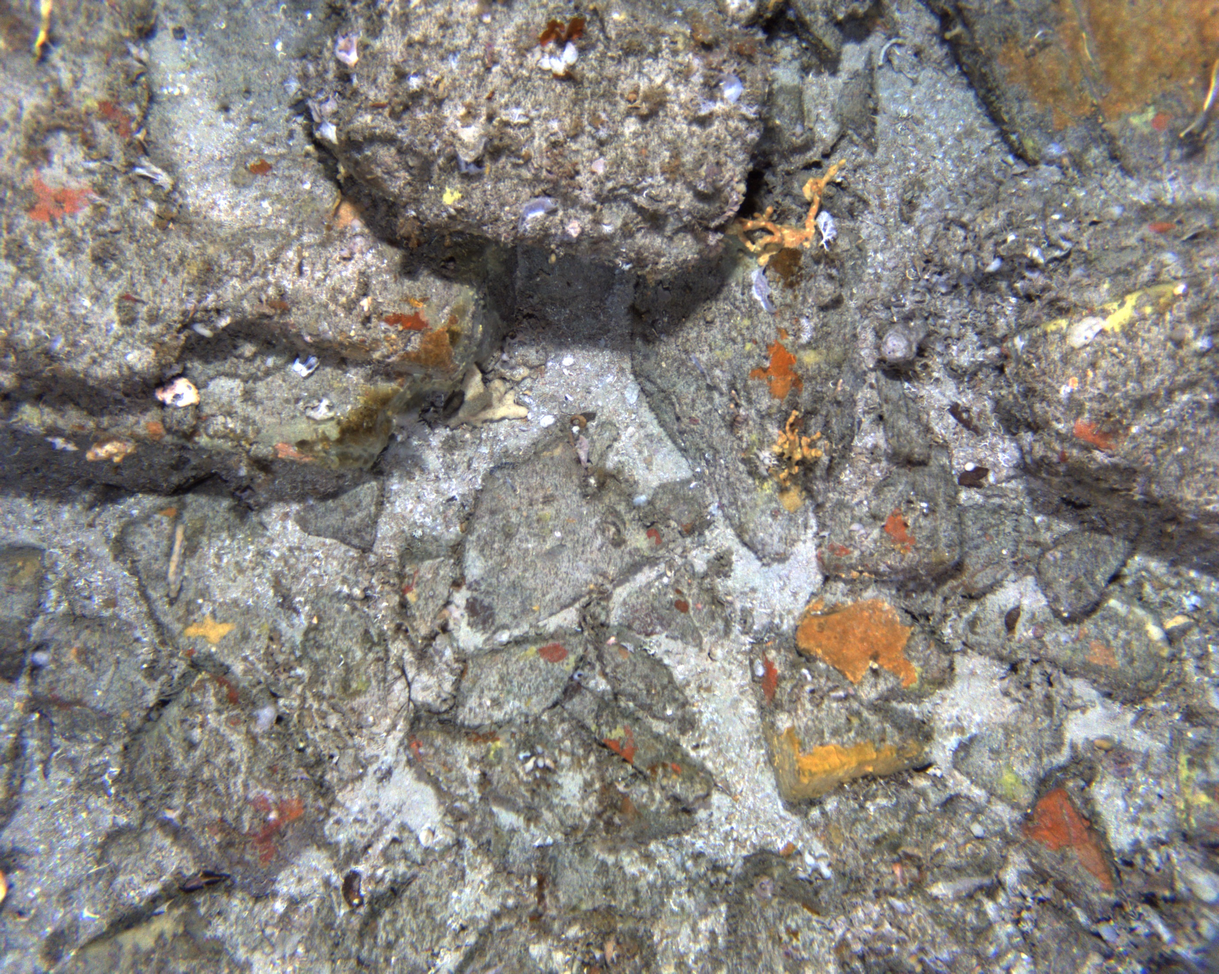Brachionichthyidae: (179, 868, 229, 893)
